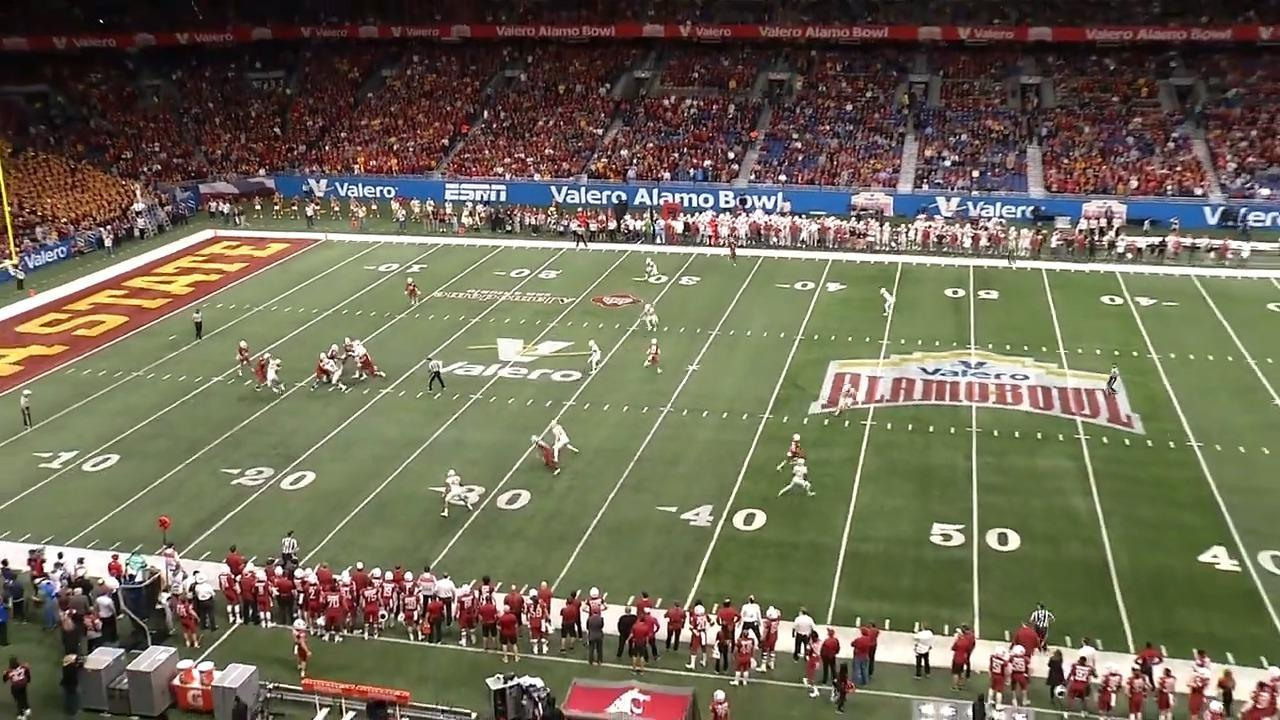10L: (34, 449, 122, 472), (363, 263, 428, 272)
20L: (220, 466, 318, 491), (492, 268, 562, 280)
30L: (428, 481, 532, 511), (633, 274, 702, 286)
40L: (656, 502, 767, 530), (775, 279, 848, 292)
40R: (1194, 545, 1280, 575), (1099, 294, 1181, 308)
50: (928, 521, 1022, 553), (944, 287, 1001, 301)
